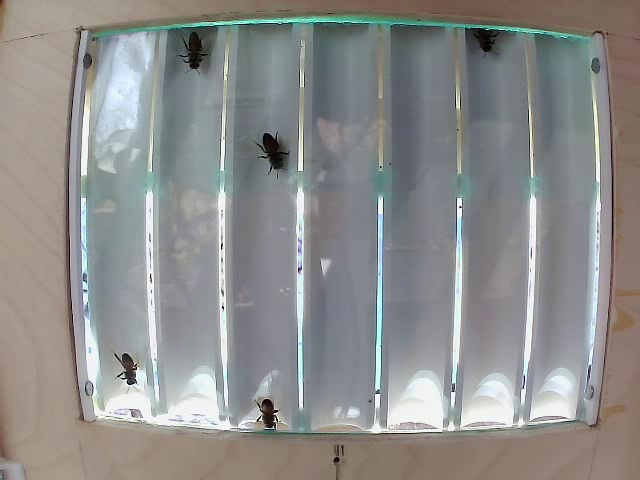bee: (256, 111, 294, 187), (109, 344, 156, 401), (174, 39, 224, 88), (252, 388, 290, 429), (470, 22, 503, 64)
